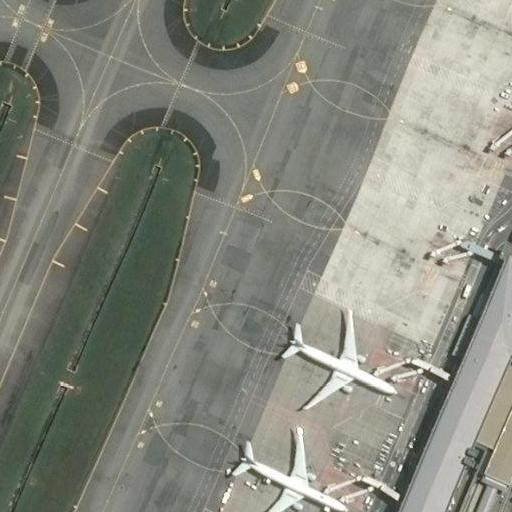Aircraft: (274, 305, 398, 412), (226, 423, 347, 512)
